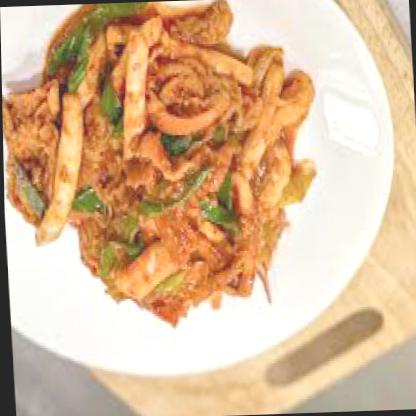jeyuk bokkeum: (13, 18, 297, 326)
